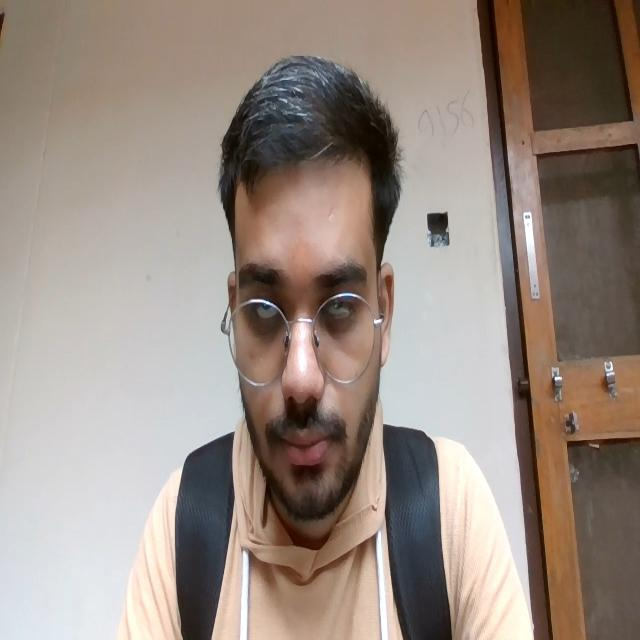drowsy: (238, 260, 364, 465)
